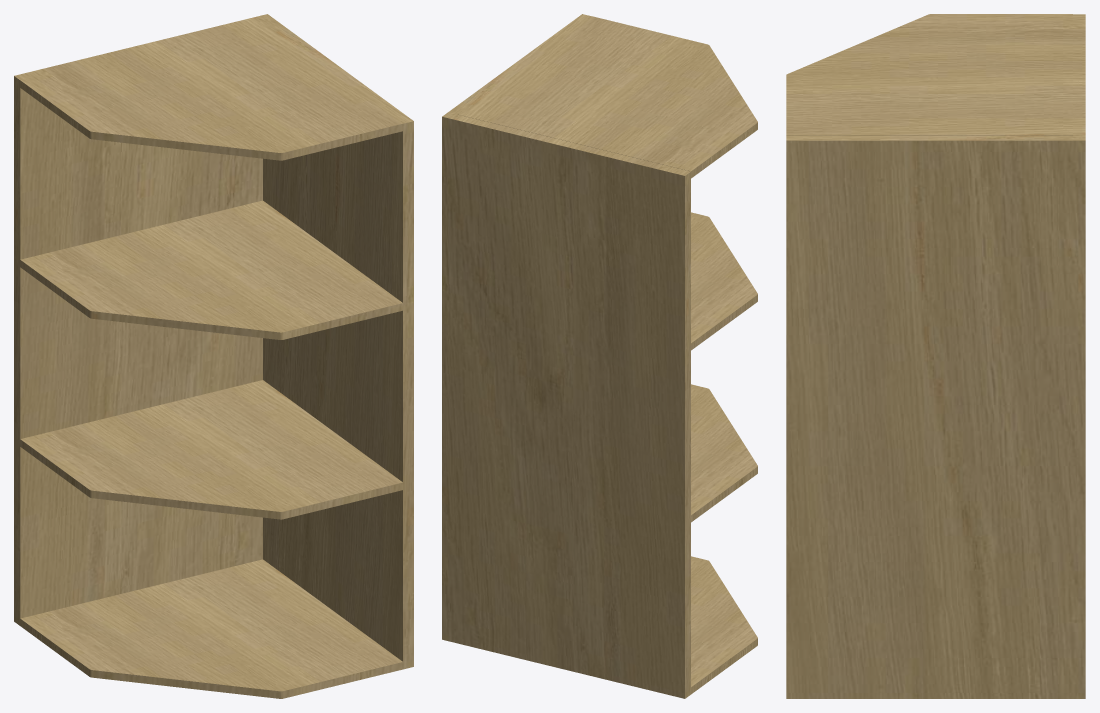
File: upperShelves.obj
3 views of the same model, side by side, from view 1: azimuth 30°, elevation 25°; view 2: azimuth 150°, elevation 25°; view 3: azimuth 270°, elevation 25° (orthographic). The views are drawn at different scales.
Parts seen in each view (by area): view 1: Cube.012_Cube.010; view 2: Cube.012_Cube.010; view 3: Cube.012_Cube.010.
Part boxes in pixels (x1=…): Cube.012_Cube.010: x1=14, y1=14, x2=413, y2=698; Cube.012_Cube.010: x1=442, y1=14, x2=757, y2=698; Cube.012_Cube.010: x1=786, y1=14, x2=1085, y2=698.
Size of the model in its own units: 35 by 72 by 35.
